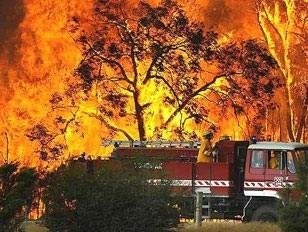fire: (10, 1, 308, 149)
